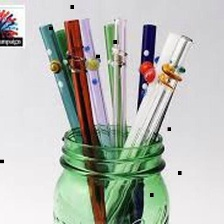drinking_straw: (105, 16, 129, 223)
glass: (50, 121, 174, 223)
